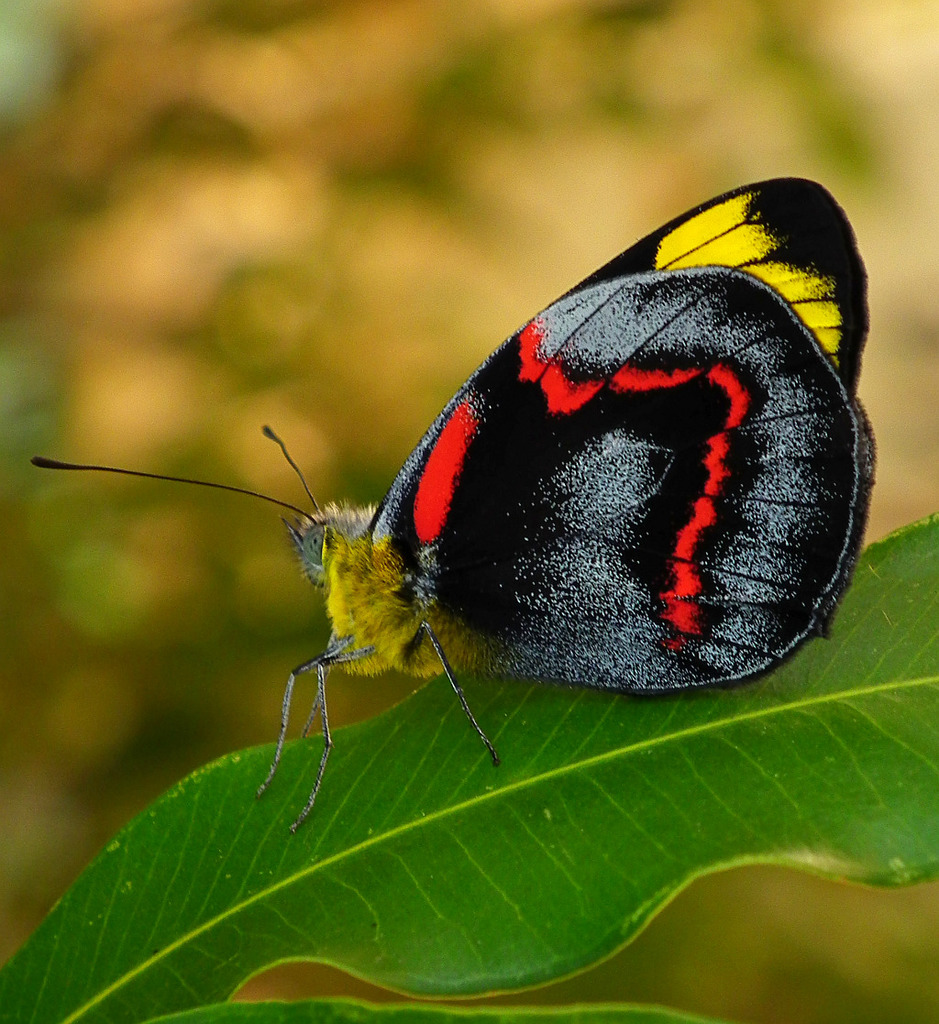Butterfly: (208, 152, 886, 779)
